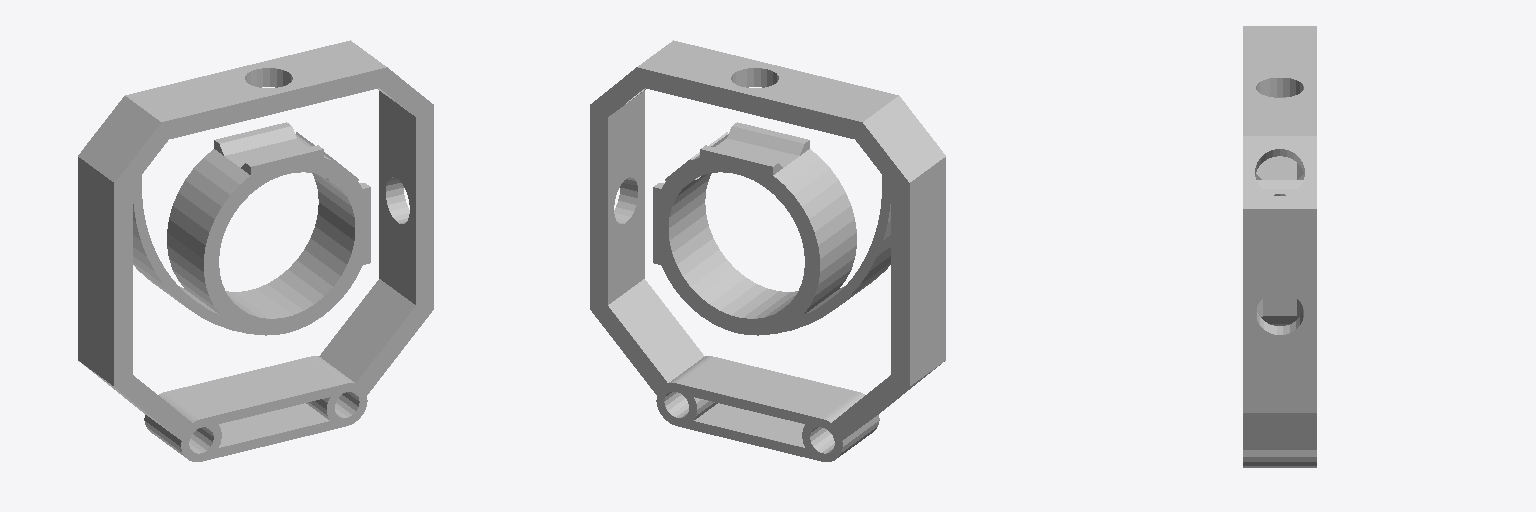
The model's file is Cube 1x1 V5_Laser Holder (Green Laser).obj.
The picture shows the model from 3 angles: view 1: azimuth 30°, elevation 25°; view 2: azimuth 150°, elevation 25°; view 3: azimuth 270°, elevation 25°; orthographic projection.
Parts seen in each view (by area): view 1: Solid1:18; view 2: Solid1:18; view 3: Solid1:18.
Part boxes in pixels (bbox=[...]): Solid1:18: bbox=[78, 40, 433, 461]; Solid1:18: bbox=[590, 40, 945, 461]; Solid1:18: bbox=[1243, 26, 1316, 467].
Size of the model in its own units: 43.94 by 45.83 by 8.75.